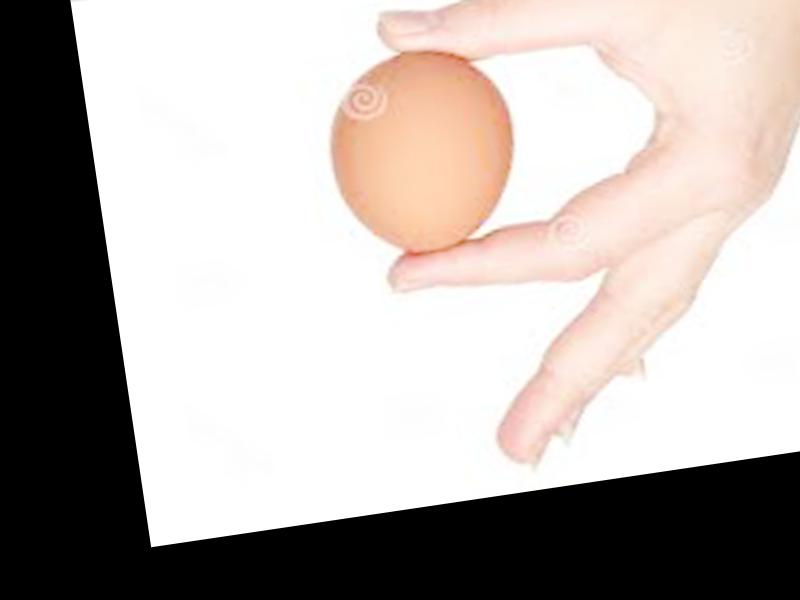Eggs: (315, 36, 532, 265)
